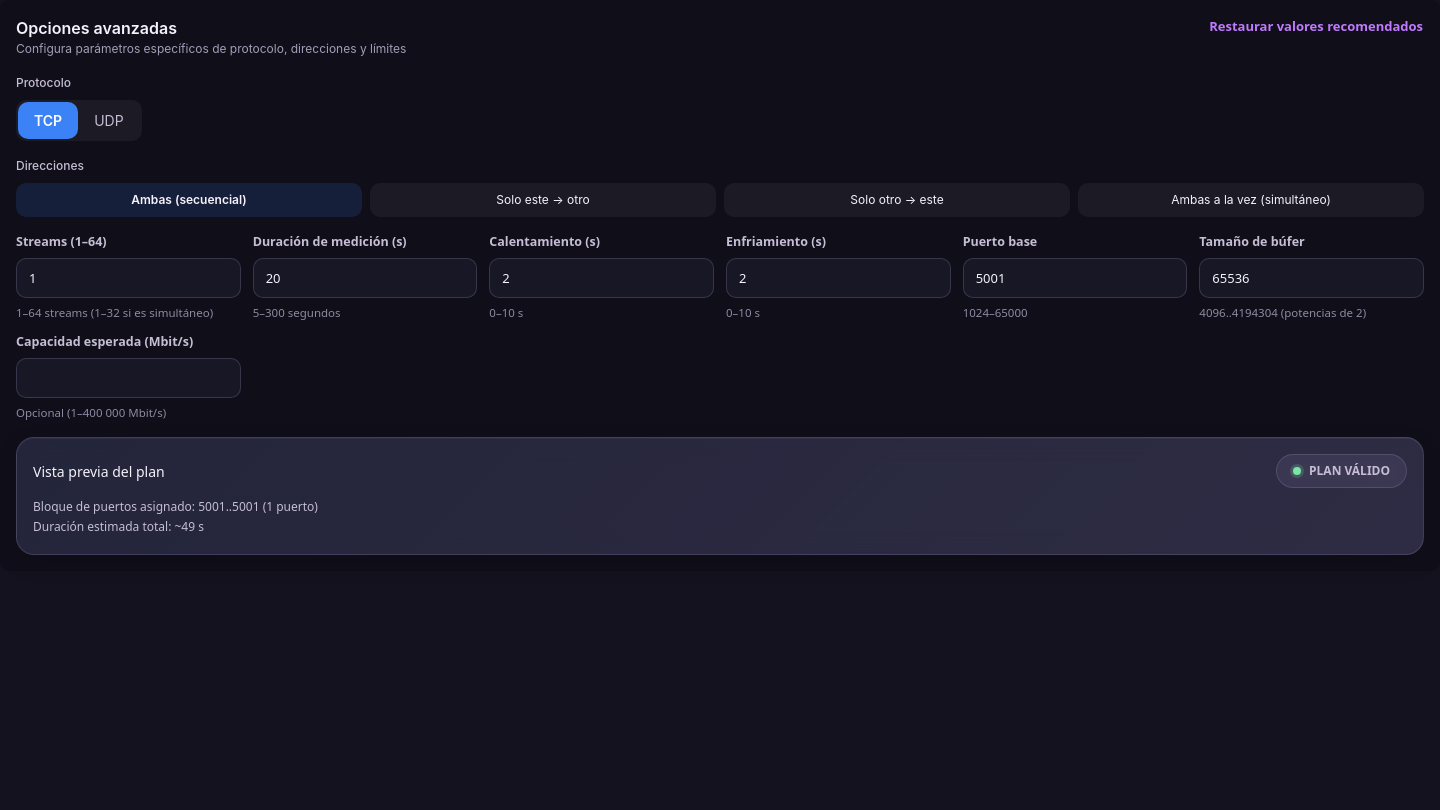
Test: T092 - AdvancedPlan UI Component Tests (US5) › muestra el aviso explicativo de UDP al seleccionar el protocolo UDP
The width and height of the screenshot is (1440, 810).
Click the radio button labelled "UDP".
click(109, 120)  # box left=78, top=102, right=140, bottom=139
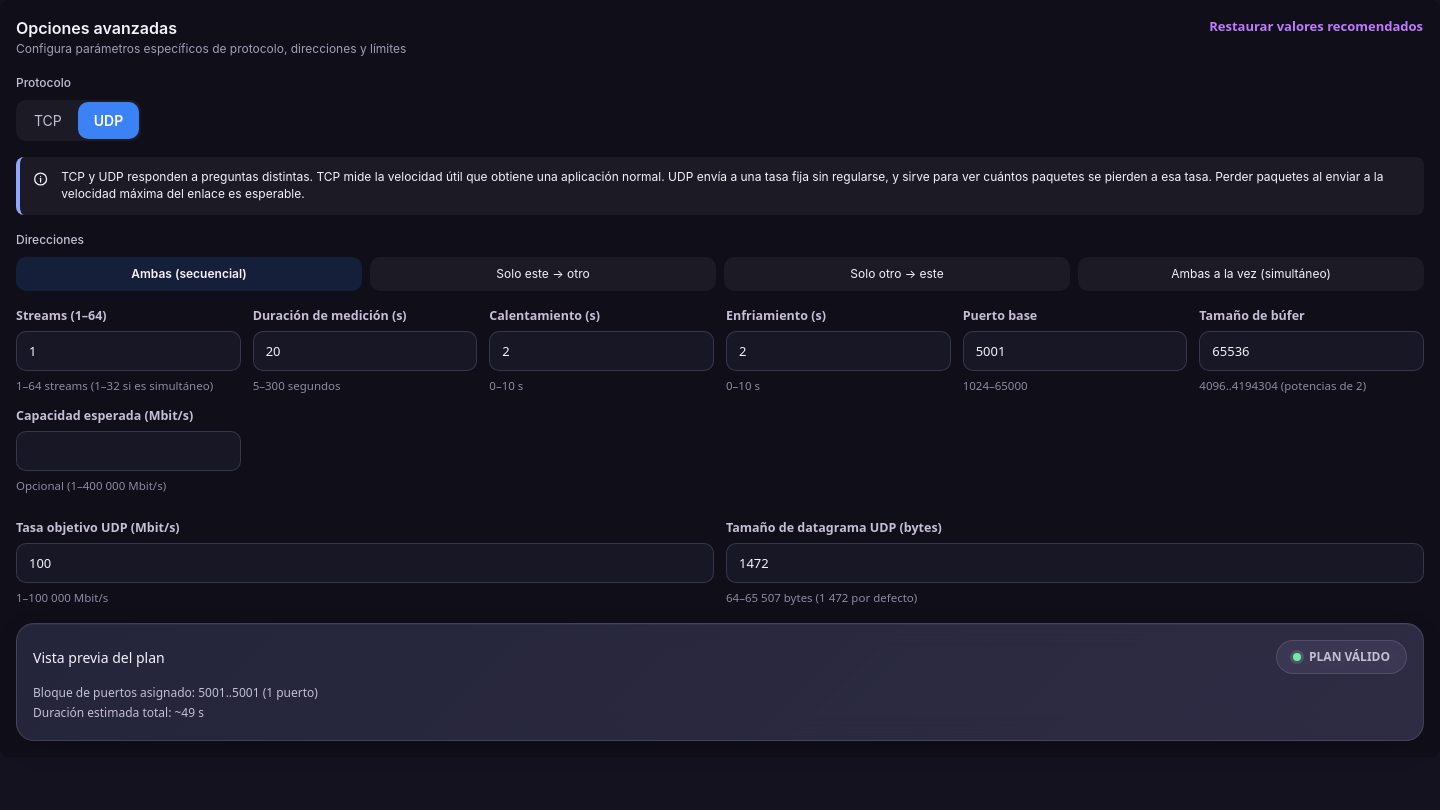
Now the text "TCP y UDP responden a preguntas distintas" is shown, box left=61, top=169, right=1384, bottom=201
Now the text "Tasa objetivo UDP (Mbit/s)" is shown, box left=16, top=519, right=180, bottom=536
Now the text "Tamaño de datagrama UDP (bytes)" is shown, box left=726, top=519, right=942, bottom=536
